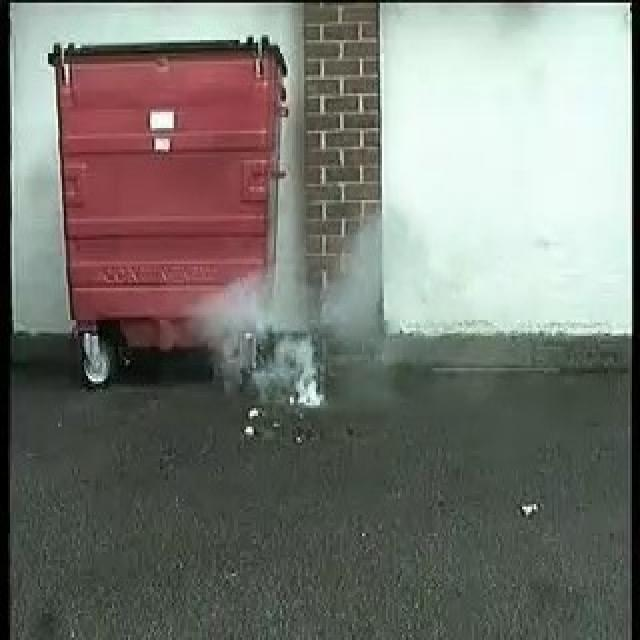smoke: (214, 238, 386, 410)
